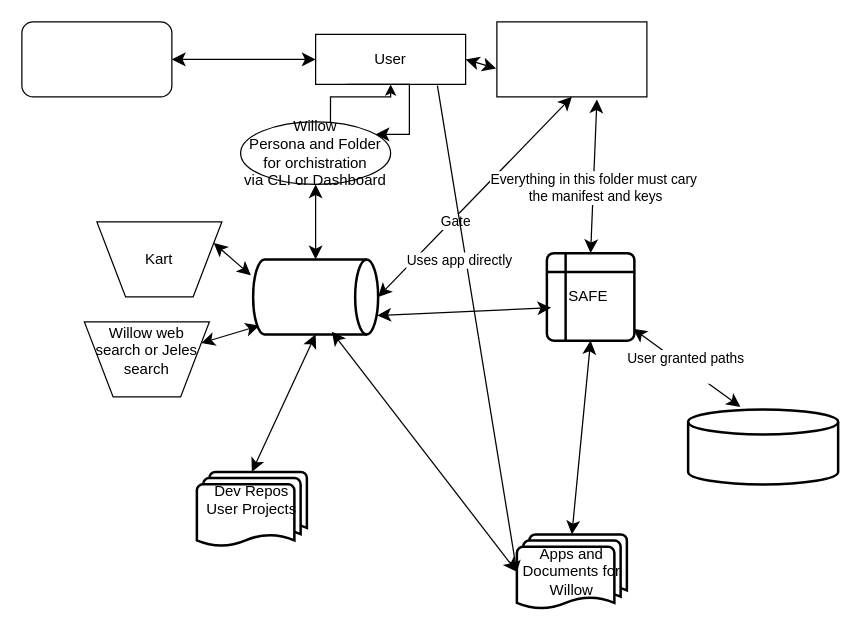
Image size: 861x633. Some labels were removed from this diagram. The centre of each missing label's shape, as x and y in pixels:
(USER)-data-vault Postgres and Soil are in here.: the point at 762,446
External Projects: the point at 96,59
SSH, PGP, egress permissionss: the point at 571,59
willow-mcp: the point at 315,296
